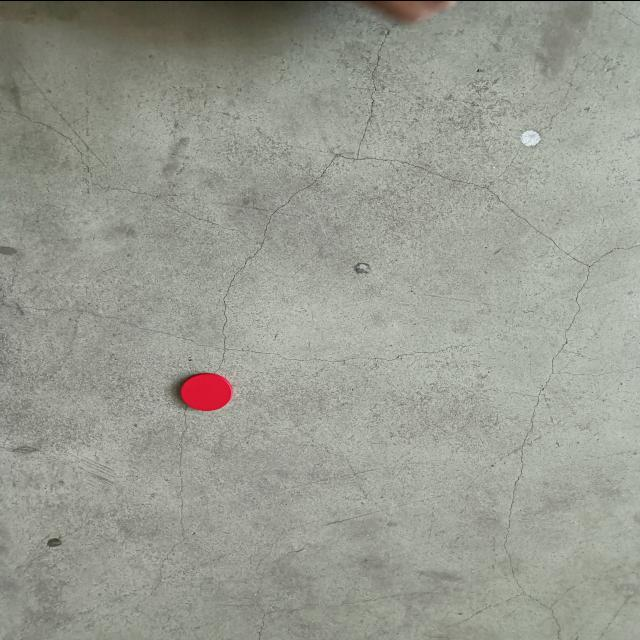chip: (172, 372, 234, 413)
